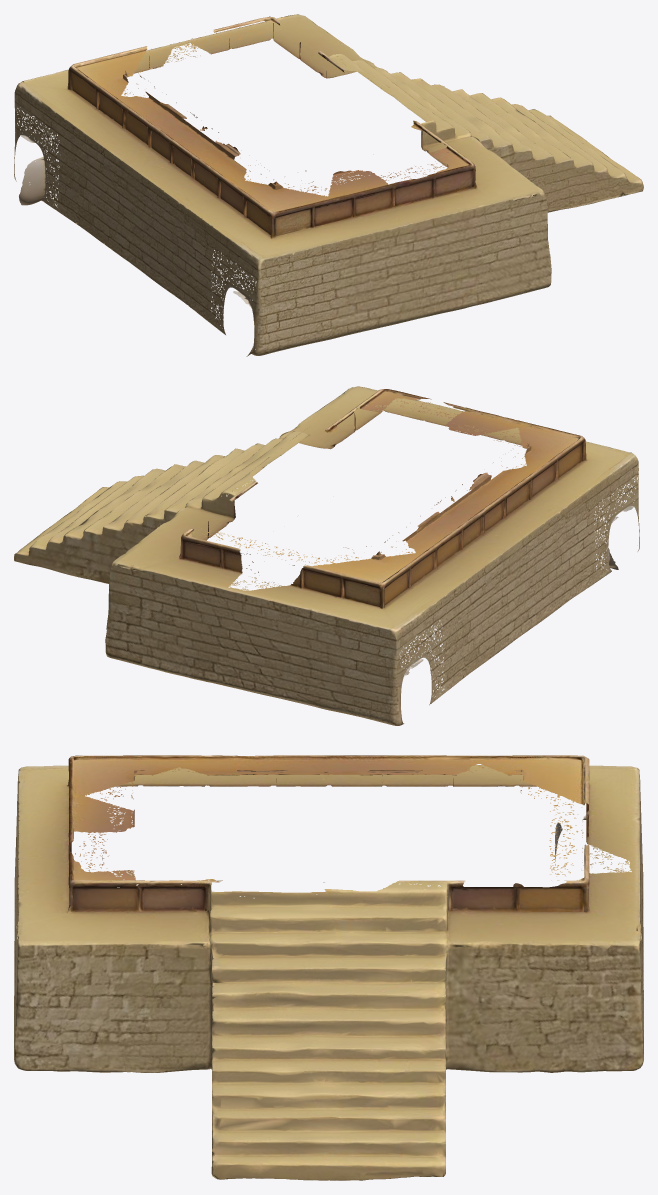
The model's file is temple_altar_square.glb.
The picture shows the model from 3 angles, top to bottom: view 1: azimuth 30°, elevation 25°; view 2: azimuth 150°, elevation 25°; view 3: azimuth 270°, elevation 25°; orthographic projection. The views are drawn at different scales.
Parts seen in each view (by area): view 1: tripo_node_3c32630d-01ff-4f0a-9c3c-bac0866355b6; view 2: tripo_node_3c32630d-01ff-4f0a-9c3c-bac0866355b6; view 3: tripo_node_3c32630d-01ff-4f0a-9c3c-bac0866355b6.
Boxes of the visible parts, <box> form: tripo_node_3c32630d-01ff-4f0a-9c3c-bac0866355b6: <box>14,14,643,356</box>; tripo_node_3c32630d-01ff-4f0a-9c3c-bac0866355b6: <box>14,386,639,725</box>; tripo_node_3c32630d-01ff-4f0a-9c3c-bac0866355b6: <box>14,755,643,1180</box>.
Size of the model in its own units: 0.9097 by 0.24 by 0.7937.
1 material, 1 textured.
